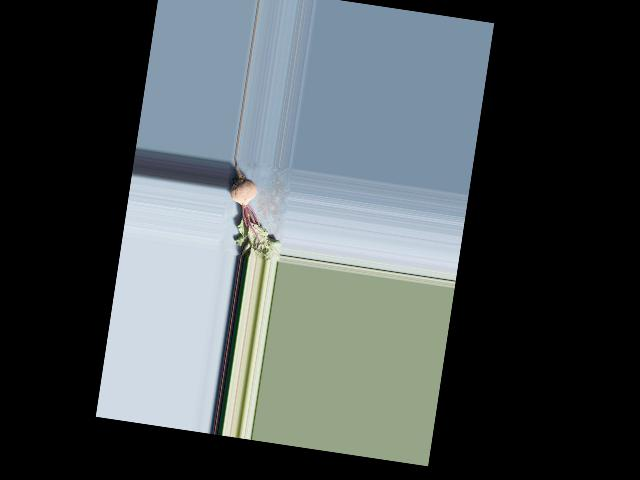beet: (220, 159, 293, 262)
